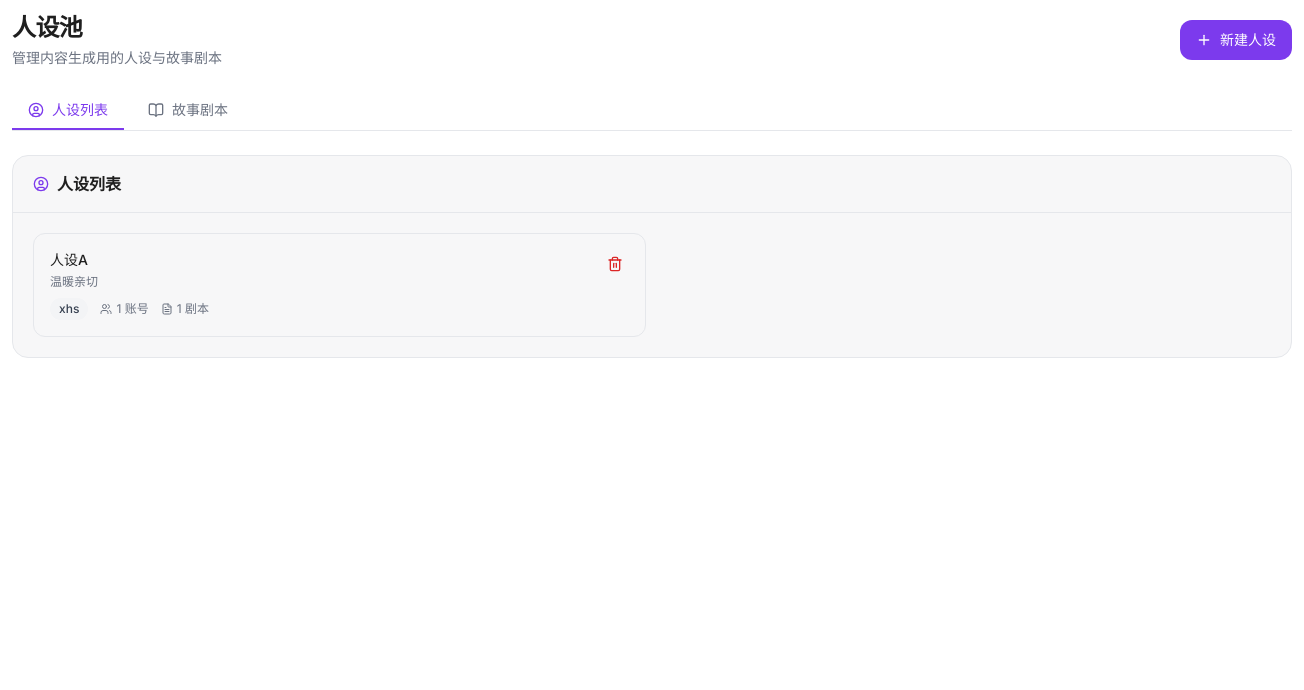
Test: PersonasPage › keeps editor open after saving an existing story
Click the button "故事剧本" at (188, 111), box [132,92,244,130]
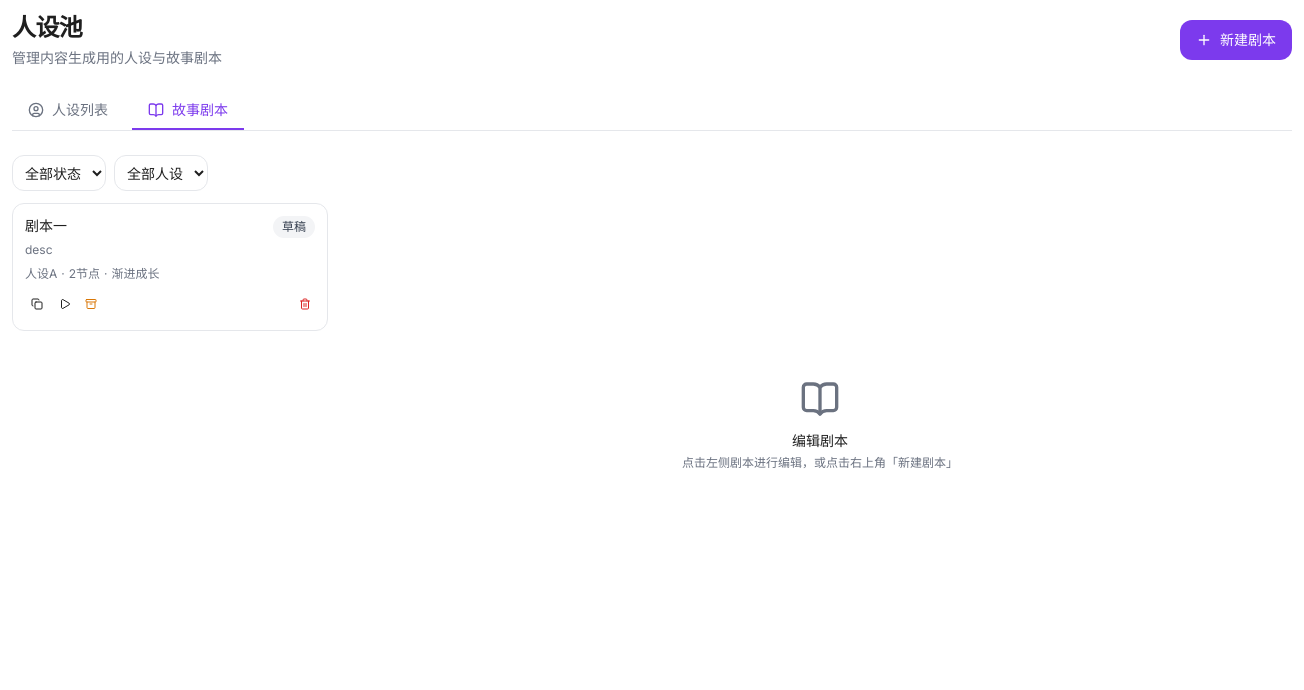
Click the heading "剧本一" at (46, 226), box [25,217,67,234]
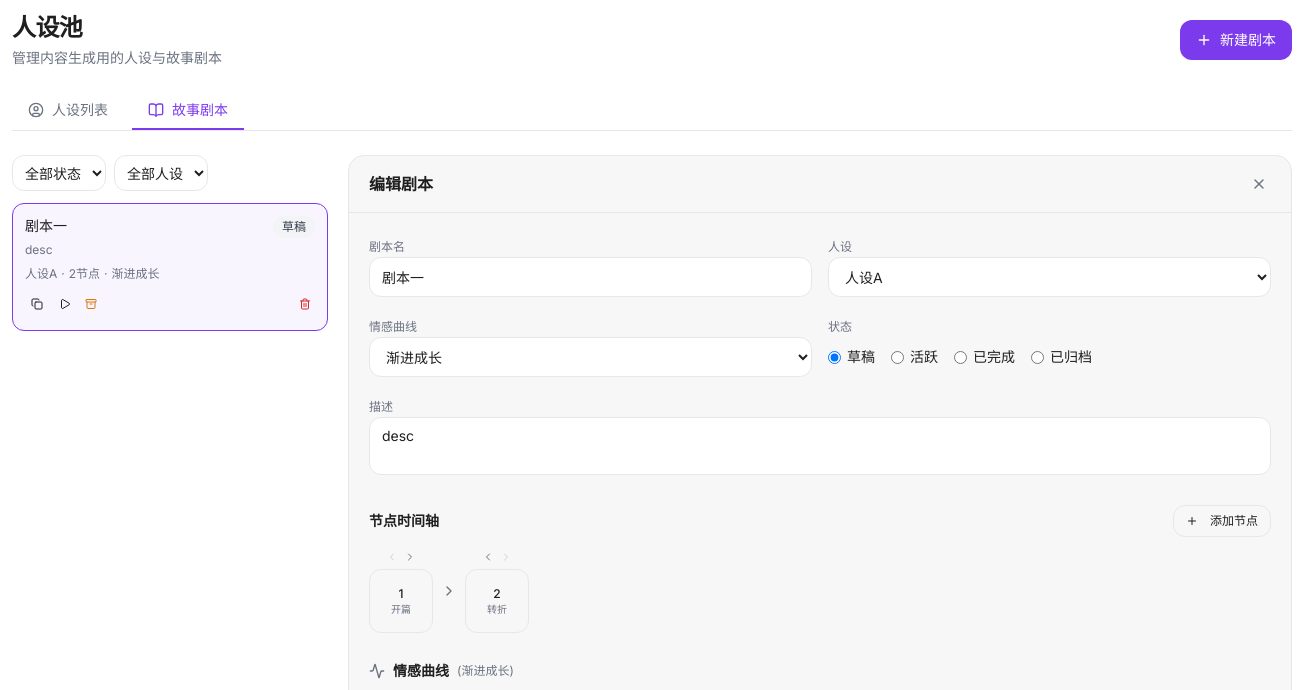
Now the heading "节点时间轴" is shown, box [369,511,439,531]
# Change story name and save
Replace the text in the field with placeholder "输入剧本名称" with "剧本一改名" at (590, 277), box [369,257,812,297]
(page scrolled)
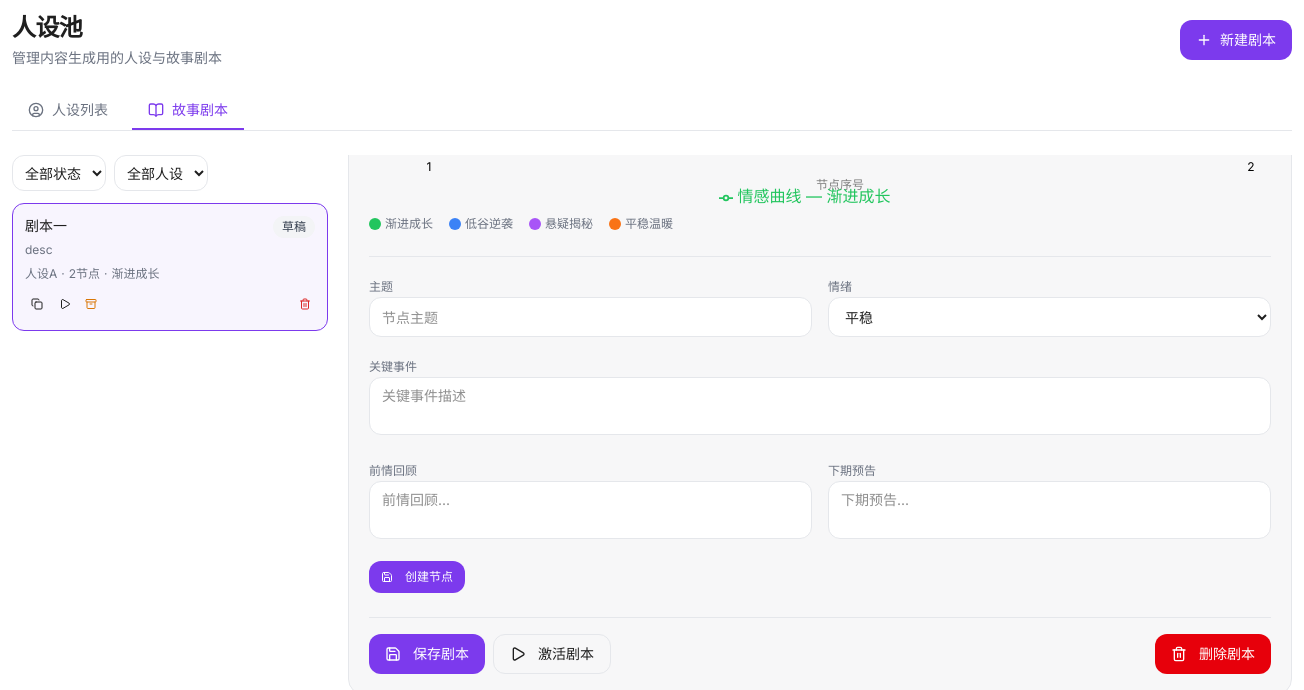
Click the button "保存剧本" at (427, 654), box [369,634,485,674]
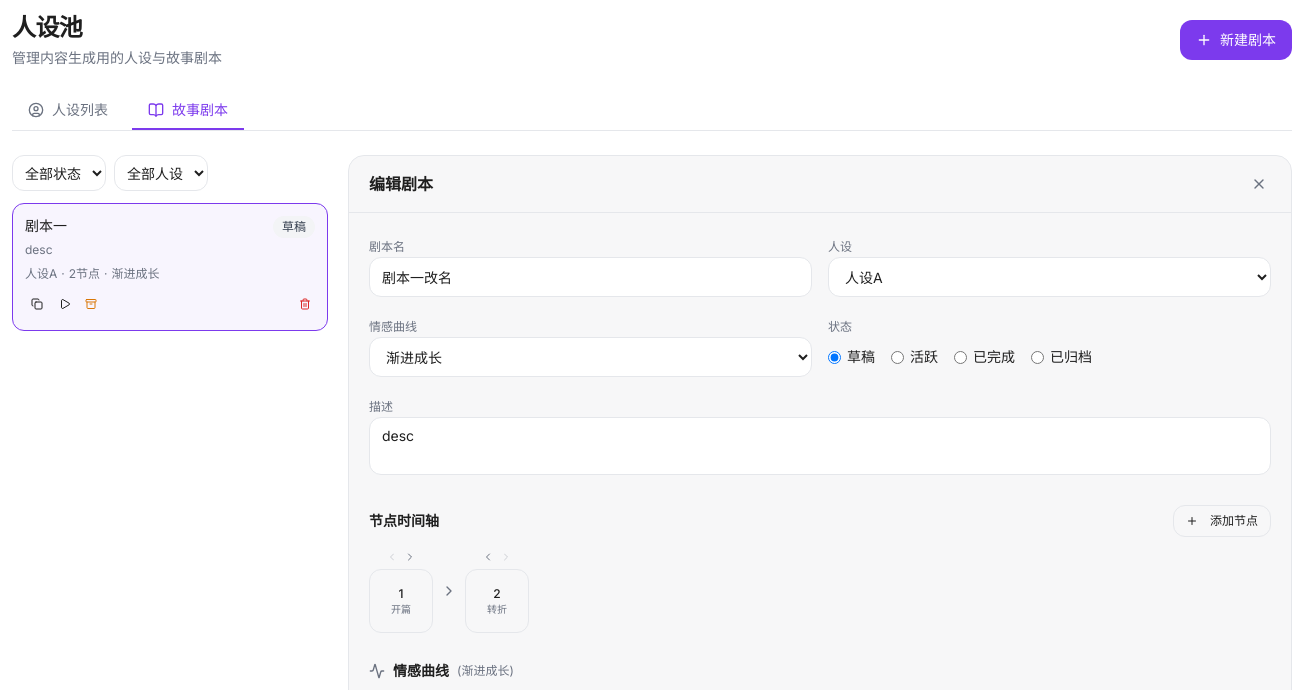
Now the heading "节点时间轴" is shown, box [369,511,439,531]
